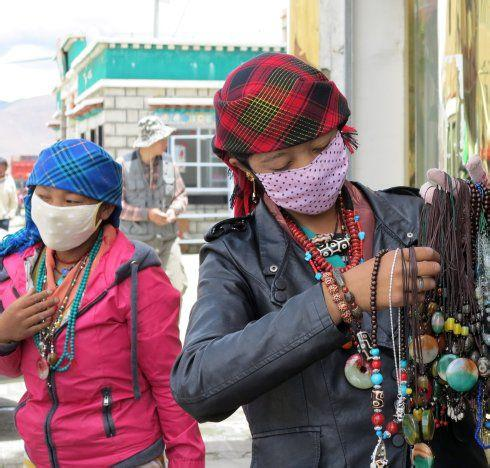OK: (254, 121, 350, 217), (29, 182, 99, 254)
